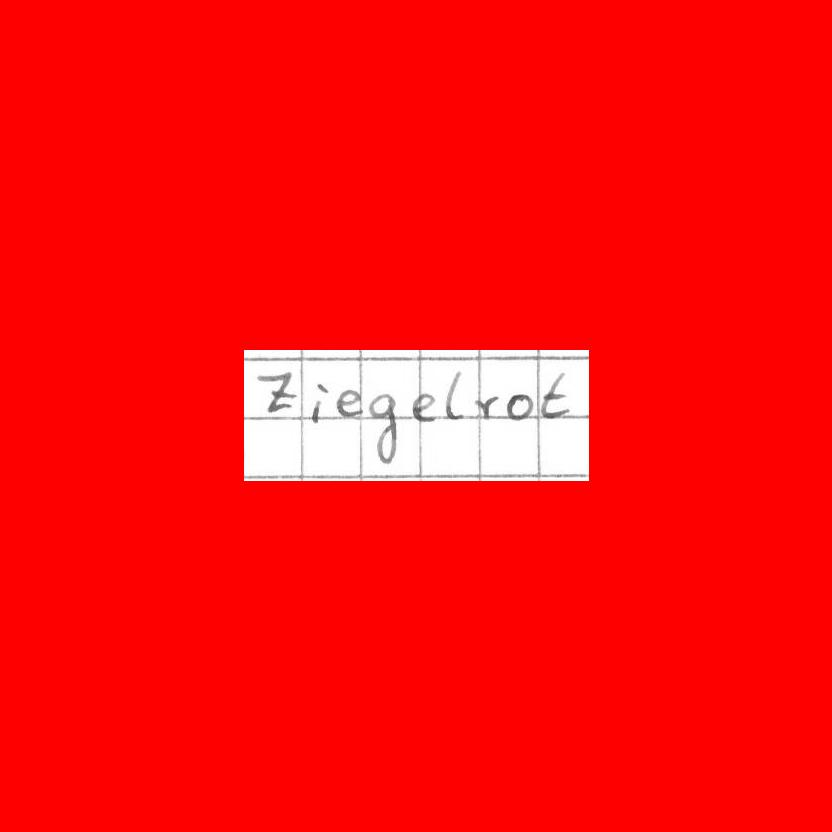Char: (365, 391, 398, 465), (254, 368, 298, 416), (538, 369, 569, 419), (443, 368, 464, 419), (409, 391, 439, 423), (308, 379, 328, 425), (505, 392, 535, 420), (335, 386, 360, 419), (473, 392, 501, 419)
